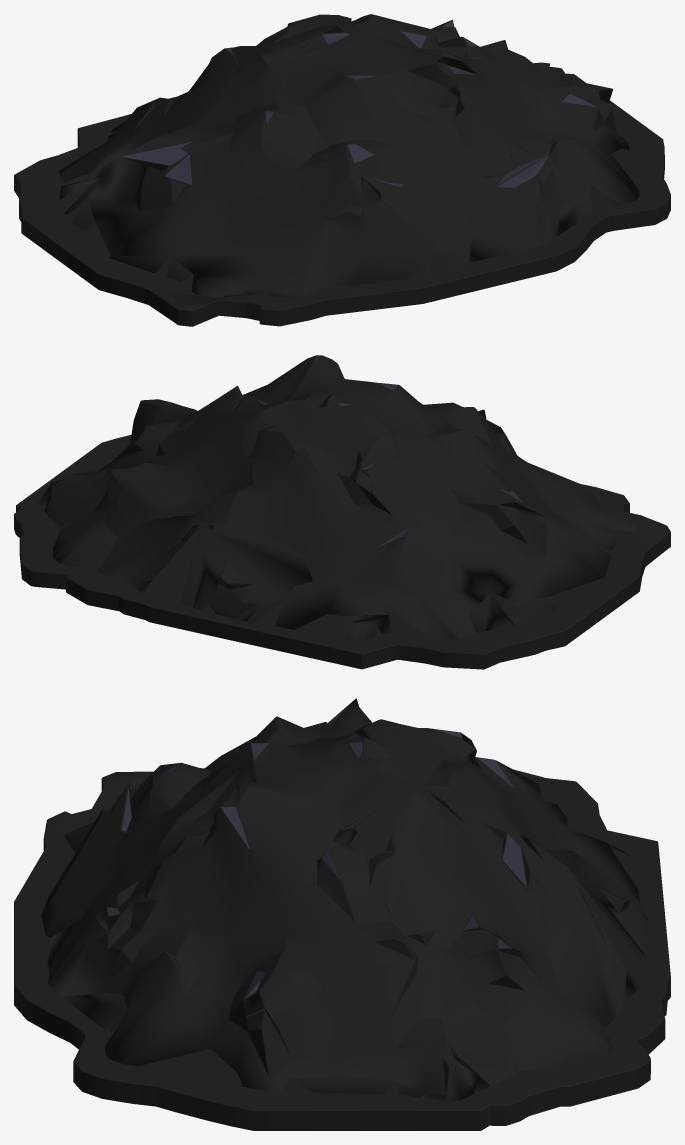
File: UD_SAF_Coal_Pile.fbx
3 views of the same model, one above another, from view 1: azimuth 30°, elevation 25°; view 2: azimuth 150°, elevation 25°; view 3: azimuth 270°, elevation 25° (orthographic). The views are drawn at different scales.
Parts seen in each view (by area): view 1: Coal_Pile; view 2: Coal_Pile; view 3: Coal_Pile.
Part boxes in pixels (box(x1,y1,x2,y2)): Coal_Pile: box(14, 14, 670, 326); Coal_Pile: box(14, 355, 670, 669); Coal_Pile: box(14, 698, 670, 1130).
Size of the model in its own units: 70 by 20 by 55.
